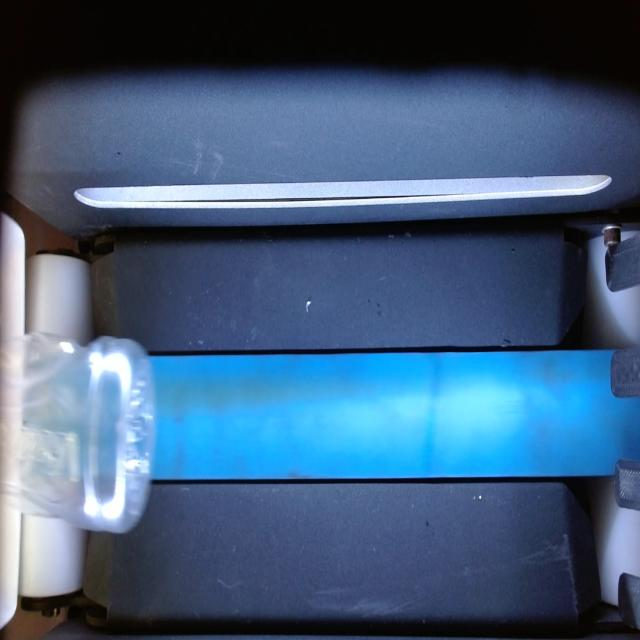bottom: (0, 333, 155, 532)
